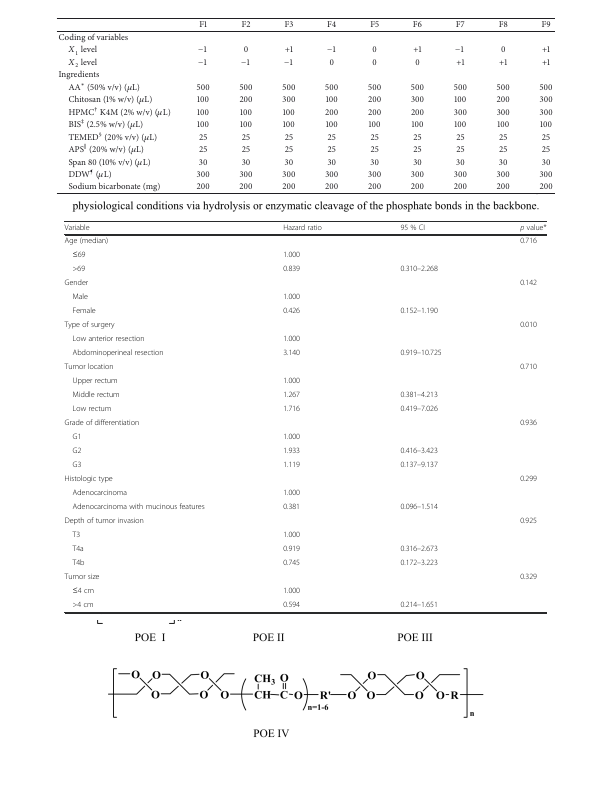borderless: (63, 220, 546, 612), (55, 16, 555, 193)
cell: (67, 103, 172, 120), (67, 129, 158, 145), (71, 503, 205, 513), (67, 92, 153, 107), (67, 154, 152, 169), (67, 141, 145, 157), (67, 116, 144, 132), (67, 79, 141, 95), (67, 182, 161, 193), (71, 349, 164, 359), (63, 517, 145, 527), (63, 419, 140, 429), (71, 335, 145, 345), (67, 166, 113, 182), (57, 33, 129, 43), (71, 489, 128, 499), (67, 54, 98, 71), (64, 321, 115, 331), (63, 475, 114, 485), (64, 363, 114, 373), (71, 391, 121, 401), (67, 42, 98, 58), (57, 70, 100, 81), (71, 377, 118, 387), (64, 237, 109, 247), (399, 349, 442, 359), (71, 405, 112, 415), (399, 265, 439, 275), (399, 307, 439, 317), (399, 391, 439, 401), (399, 405, 439, 415), (399, 447, 439, 457), (399, 461, 439, 471), (399, 503, 439, 513), (399, 545, 439, 555), (399, 559, 439, 569), (399, 601, 439, 611), (63, 573, 100, 583), (282, 224, 323, 233), (71, 307, 97, 317), (519, 224, 547, 233), (64, 279, 89, 289), (399, 224, 426, 233), (71, 587, 95, 597), (64, 224, 90, 233), (71, 601, 94, 611), (197, 54, 209, 70), (240, 54, 252, 70), (283, 54, 295, 70), (519, 237, 538, 247), (282, 251, 301, 261), (282, 265, 301, 275), (519, 279, 538, 289), (282, 293, 301, 303), (282, 307, 301, 317), (519, 321, 538, 331), (282, 335, 301, 345), (282, 349, 301, 359), (519, 363, 538, 373), (282, 377, 301, 387), (282, 391, 301, 401), (282, 405, 301, 415), (519, 419, 538, 429), (282, 433, 301, 443), (282, 447, 301, 457), (282, 461, 301, 471), (519, 475, 538, 485), (282, 489, 301, 499), (282, 503, 301, 513), (519, 517, 538, 527), (282, 531, 301, 541), (282, 545, 301, 555), (282, 559, 301, 569), (519, 573, 538, 583), (282, 587, 301, 597), (282, 601, 301, 611), (197, 42, 209, 57), (326, 42, 338, 57), (71, 293, 89, 303), (238, 95, 254, 106), (238, 182, 254, 193), (455, 42, 466, 57), (281, 95, 296, 106), (367, 95, 382, 106), (410, 95, 425, 106), (496, 95, 511, 106), (539, 95, 554, 106), (324, 107, 339, 118), (367, 107, 382, 118), (410, 107, 425, 118), (453, 107, 468, 118), (496, 107, 511, 118), (539, 107, 554, 118), (196, 182, 211, 193), (281, 182, 296, 193), (324, 182, 339, 193), (367, 182, 382, 193), (410, 182, 425, 193), (453, 182, 468, 193), (496, 182, 511, 193), (539, 182, 554, 193), (238, 83, 254, 93), (238, 170, 254, 180), (196, 95, 210, 106), (325, 95, 339, 106), (453, 95, 467, 106), (196, 107, 210, 118), (239, 107, 253, 118), (282, 107, 296, 118), (196, 120, 210, 131), (239, 120, 253, 131), (282, 120, 296, 131), (325, 120, 339, 131), (368, 120, 382, 131), (410, 120, 424, 131), (453, 120, 467, 131), (496, 120, 510, 131), (539, 120, 553, 131), (196, 83, 211, 93), (281, 83, 296, 93), (324, 83, 339, 93), (367, 83, 382, 93), (410, 83, 425, 93), (453, 83, 468, 93), (496, 83, 511, 93), (539, 83, 554, 93), (196, 170, 211, 180), (281, 170, 296, 180), (324, 170, 339, 180), (367, 170, 382, 180), (410, 170, 425, 180), (453, 170, 468, 180), (496, 170, 511, 180), (539, 170, 554, 180), (71, 251, 86, 261), (71, 265, 86, 275), (71, 545, 85, 555), (71, 559, 85, 569), (283, 20, 294, 31), (326, 20, 337, 31), (369, 20, 380, 31), (412, 20, 423, 31), (455, 20, 466, 31), (498, 20, 509, 31), (541, 20, 552, 31), (412, 45, 423, 56), (369, 132, 380, 143), (412, 132, 423, 143), (455, 132, 466, 143), (326, 157, 337, 168), (369, 157, 380, 168), (412, 157, 423, 168), (455, 157, 466, 168), (198, 20, 208, 31), (241, 20, 251, 31), (284, 45, 294, 56), (541, 45, 551, 56), (198, 132, 208, 143), (241, 132, 251, 143), (284, 132, 294, 143), (327, 132, 337, 143), (498, 132, 508, 143), (541, 132, 551, 143), (369, 145, 380, 155), (412, 145, 423, 155), (455, 145, 466, 155), (198, 157, 208, 168), (241, 157, 251, 168), (284, 157, 294, 168), (498, 157, 508, 168), (541, 157, 551, 168), (71, 433, 82, 443), (71, 447, 82, 457), (71, 461, 82, 471), (455, 58, 465, 68), (498, 58, 508, 68), (541, 58, 551, 68), (198, 145, 208, 155), (241, 145, 251, 155), (284, 145, 294, 155), (327, 145, 337, 155), (498, 145, 508, 155), (541, 145, 551, 155), (71, 531, 81, 541), (371, 45, 378, 56), (371, 58, 378, 68), (414, 58, 421, 68), (243, 45, 249, 56), (500, 45, 506, 56), (329, 58, 335, 68)
